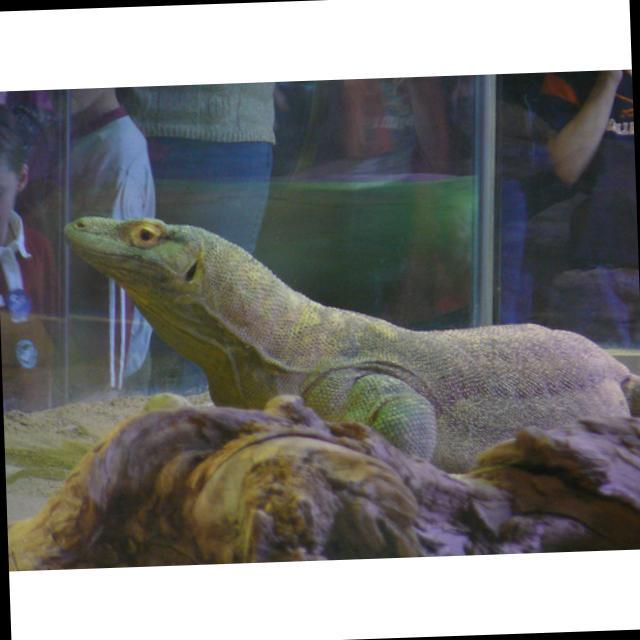KomodoDragon: (62, 195, 640, 486)
